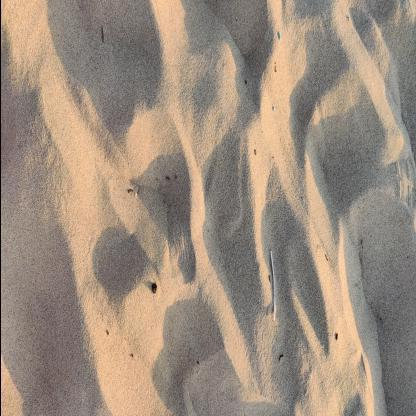plastik: (270, 251, 276, 322)
